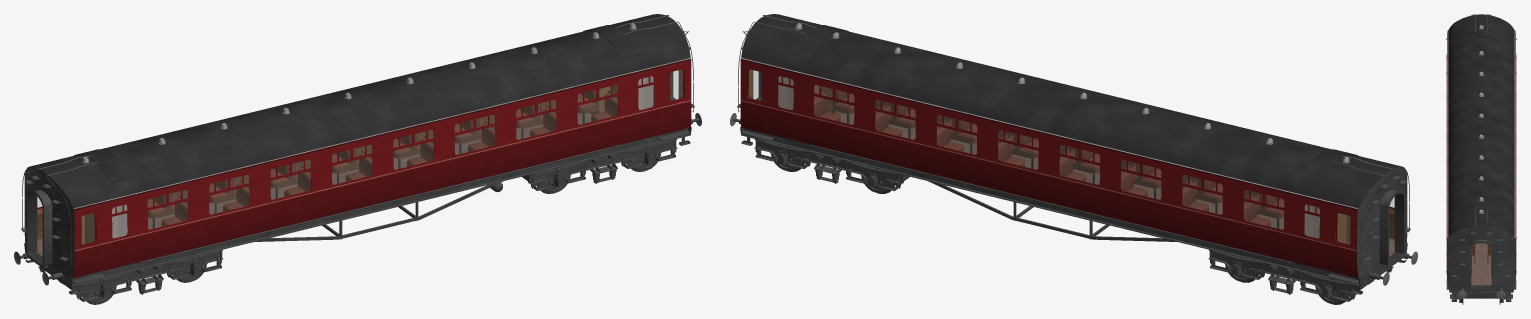
The model's file is express-coach.glb.
3 views of the same model, side by side, from view 1: azimuth 30°, elevation 25°; view 2: azimuth 150°, elevation 25°; view 3: azimuth 270°, elevation 25° (orthographic). The views are drawn at different scales.
Parts seen in each view (by area): view 1: GWR_Coach_Exterior_0, GWR_Coach_Interior_10, GWR_Coach_Glass_9; view 2: GWR_Coach_Exterior_0, GWR_Coach_Interior_10, GWR_Coach_Glass_9; view 3: GWR_Coach_Exterior_0, GWR_Coach_Interior_10.
Boxes of the visible parts, x1,y1,x2,y2 form: GWR_Coach_Exterior_0: (14, 14, 701, 301); GWR_Coach_Interior_10: (28, 69, 687, 264); GWR_Coach_Glass_9: (37, 70, 682, 244); GWR_Coach_Exterior_0: (730, 14, 1417, 301); GWR_Coach_Interior_10: (744, 69, 1403, 265); GWR_Coach_Glass_9: (748, 70, 1394, 244); GWR_Coach_Exterior_0: (1446, 14, 1516, 301); GWR_Coach_Interior_10: (1446, 243, 1516, 288).
Size of the model in its own units: 19.5 by 3.92 by 2.62.
Materials: 4 (2 with a texture image).
